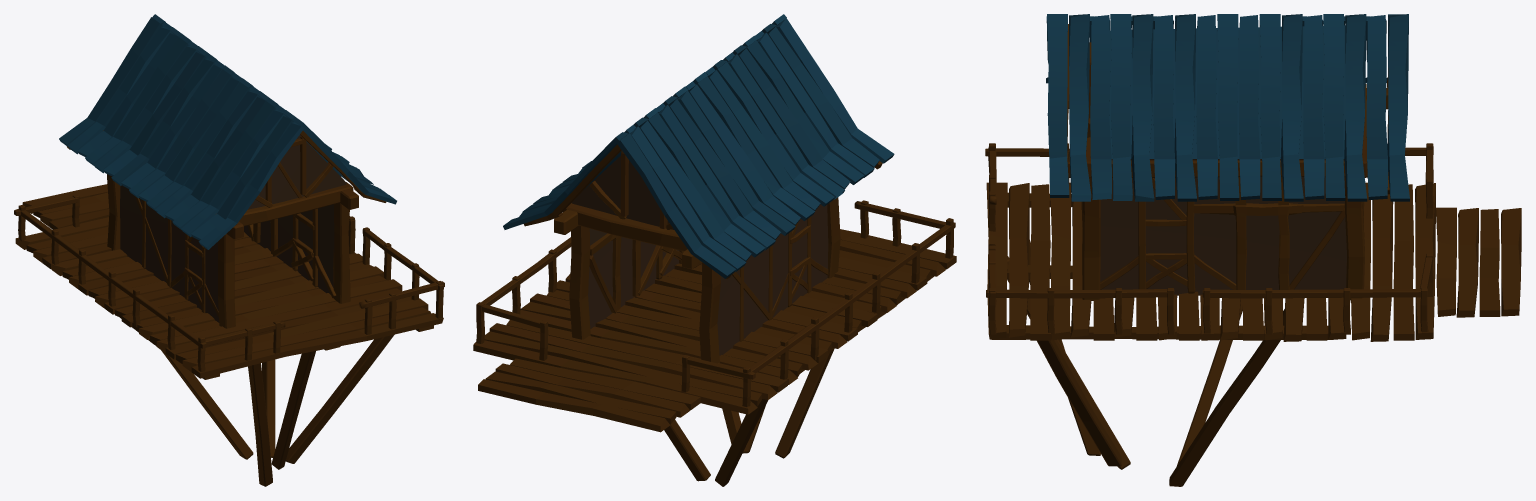
File: agac-ev.fbx
3 renders of one model, left to right at view 1: azimuth 30°, elevation 25°; view 2: azimuth 150°, elevation 25°; view 3: azimuth 270°, elevation 25°, orthographic. The views are drawn at different scales.
Visible parts, largest first — view 1: ağaç-ev; view 2: ağaç-ev; view 3: ağaç-ev.
Part boxes in pixels (x1=…): ağaç-ev: x1=14, y1=14, x2=444, y2=486; ağaç-ev: x1=473, y1=14, x2=956, y2=486; ağaç-ev: x1=985, y1=14, x2=1521, y2=486.
Size of the model in its own units: 2078 by 2990 by 3157.
Materials: 3 (3 with a texture image).
